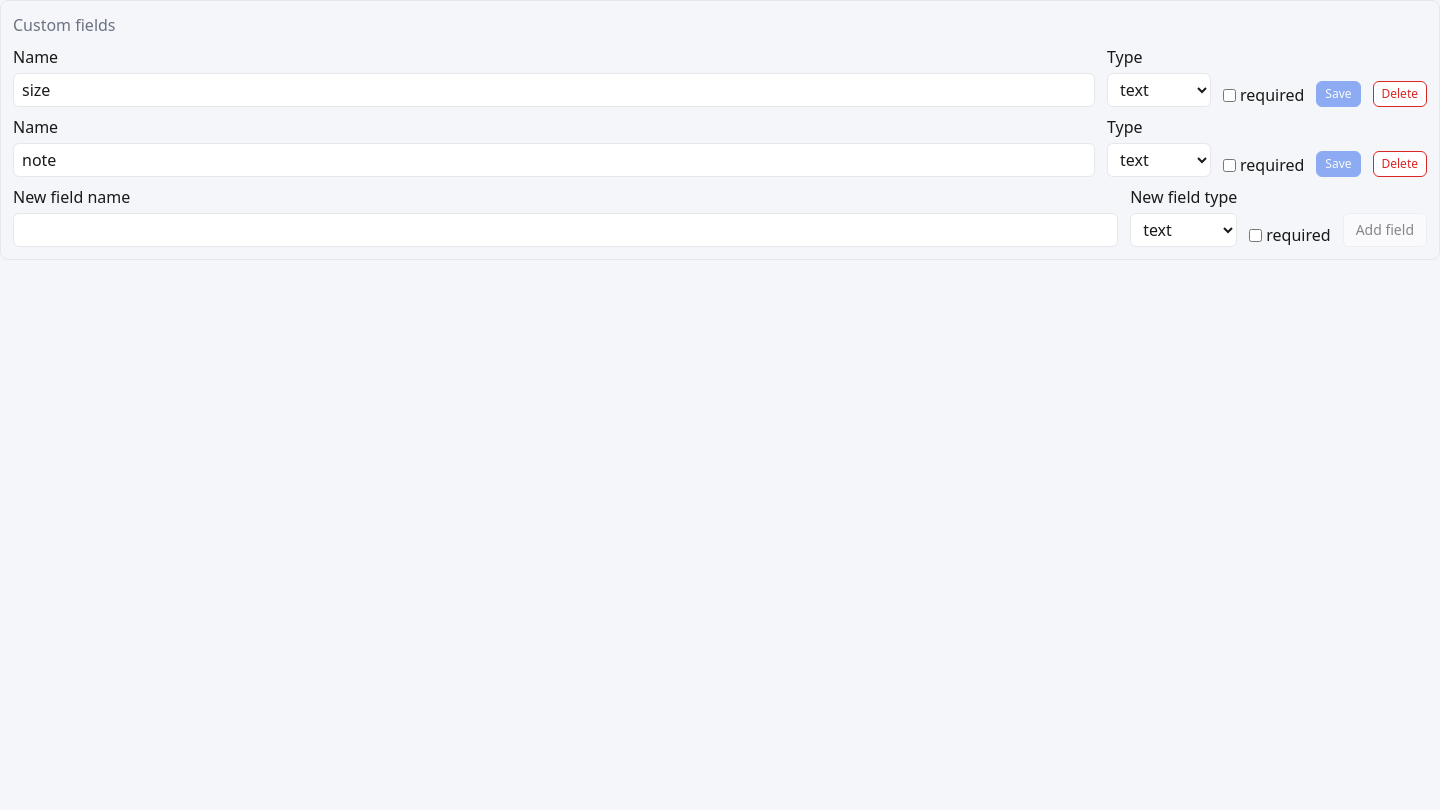
Test: retyping a field › opens the offenders dialog instead of saving a retype that strands values
Step 1. Select "number" in the 1st dropdown labelled "Type" → (1159, 90), box [1107,73,1211,107]
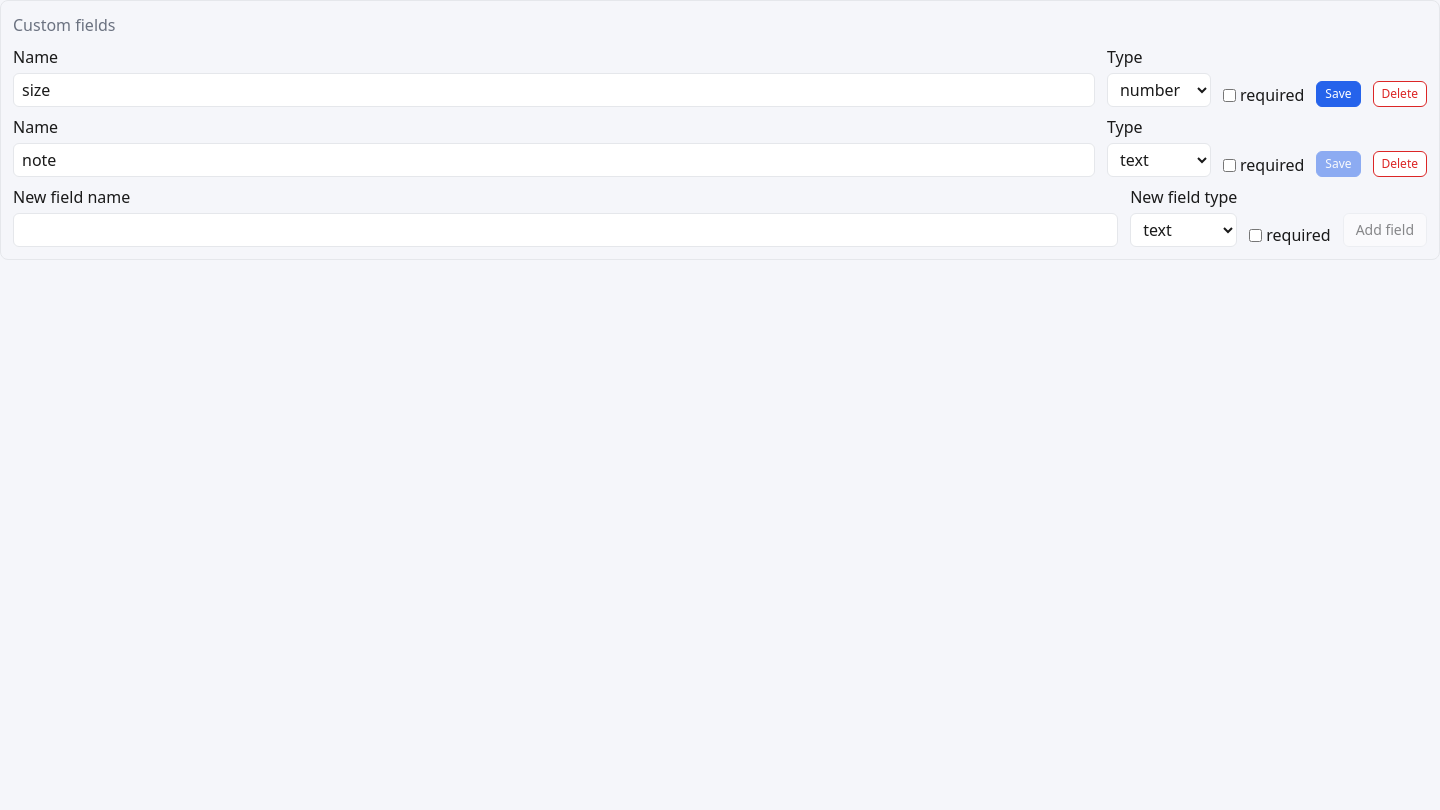
Step 2. Click the 1st button "Save" → click(1338, 94), box [1316,81,1360,107]
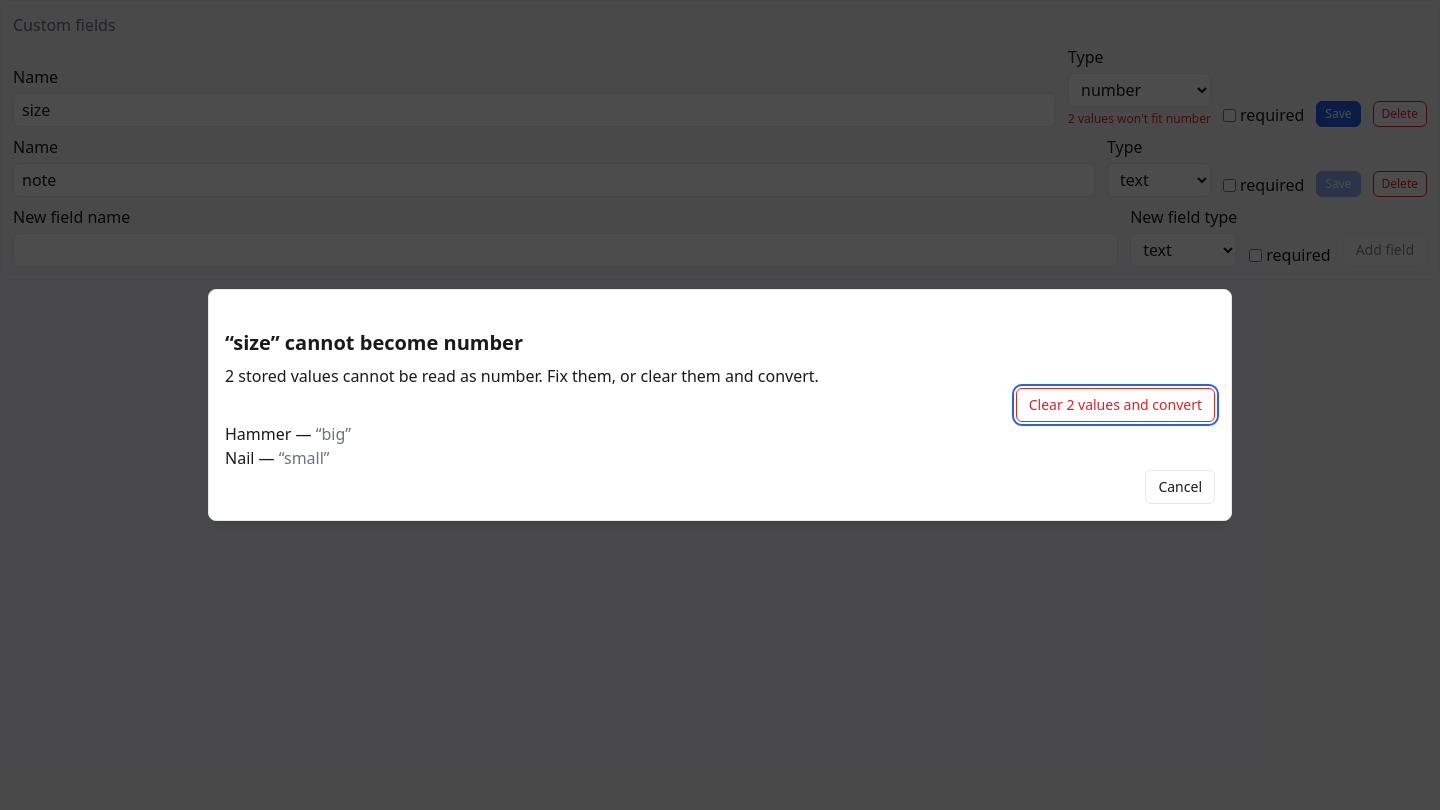
Now the dialog is shown, box [208,289,1232,521]
Now the link "Hammer" is shown, box [225,423,291,445]
